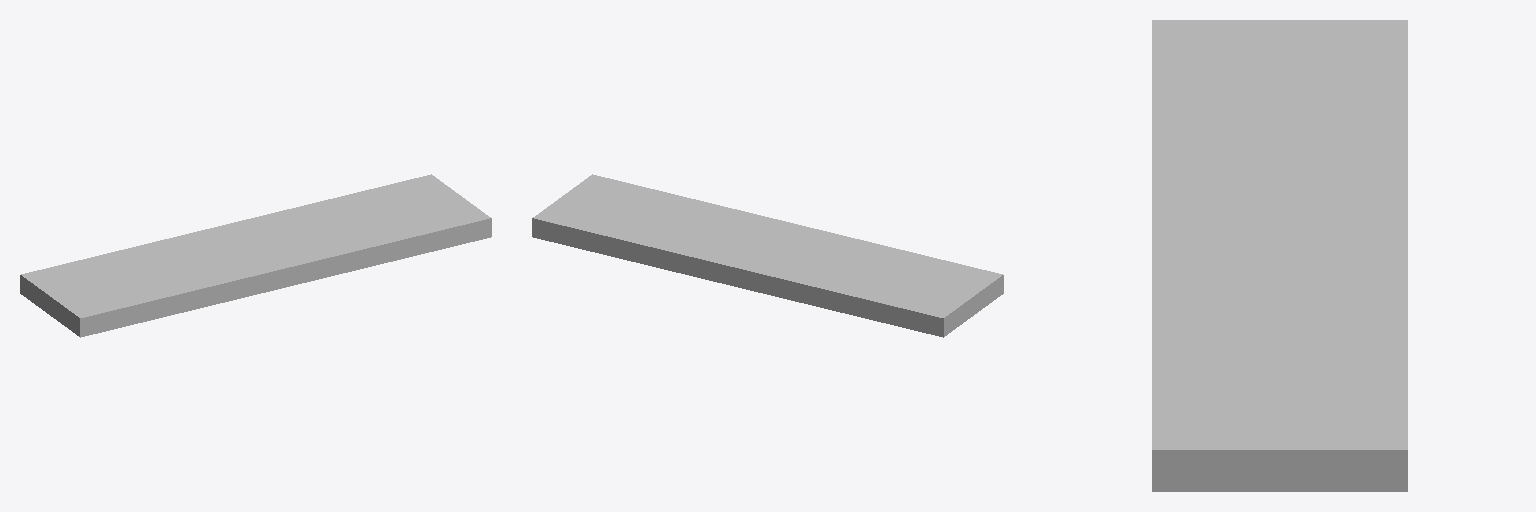
URDF robot description (box.urdf):
<?xml version="1.0" ?>
<robot name="box.urdf">
  <link name="baseLink">
    <contact>
      <lateral_friction value="1.0"/>
      <rolling_friction value="0.0001"/>
      <inertia_scaling value="3.0"/>
    </contact>
    <inertial>
      <origin rpy="0 0 0" xyz="0 0 0"/>
       <mass value="0.1"/>
       <inertia ixx="1" ixy="0" ixz="0" iyy="1" iyz="0" izz="1"/>
    </inertial>
    <visual>
      <origin rpy="0 0 0" xyz="0 0 0"/>
      <geometry>
        <!-- <box size="2.02 0.51 0.09"/> -->
        <mesh filename="box/box.obj" scale="2.02 0.51 0.09"/>
      </geometry>
      <material name="white">
        <color rgba="0.8 0.8 0.8 1"/>
      </material>
    </visual>
    <collision>
      <origin rpy="0 0 0" xyz="0 0 0"/>
      <geometry>
        <mesh filename="box/box.obj" scale="2.02 0.51 0.09"/>
	 	    <!-- <box size="2.02 0.51 0.09"/> -->
      </geometry>
    </collision>
  </link>
</robot>

--- What the picture shows (computed from the rendered views, not written in the file) ---
The picture shows the robot from 3 angles, left to right: view 1: azimuth 30°, elevation 25°; view 2: azimuth 150°, elevation 25°; view 3: azimuth 270°, elevation 25°; orthographic projection.
Robot: box.urdf — 1 links, 0 joints (none); root link baseLink; default pose: all joints at 0.
Visible links, largest first — view 1: baseLink; view 2: baseLink; view 3: baseLink.
Boxes of the visible links, x1,y1,x2,y2 form: baseLink: (20,174,491,337); baseLink: (532,174,1003,337); baseLink: (1152,20,1407,491).
Bounding box of the posed robot: 2.02 × 0.51 × 0.09 m (x, y, z).
Meshes: 1 distinct files referenced, 1 mesh visuals loaded (1 OBJ).
